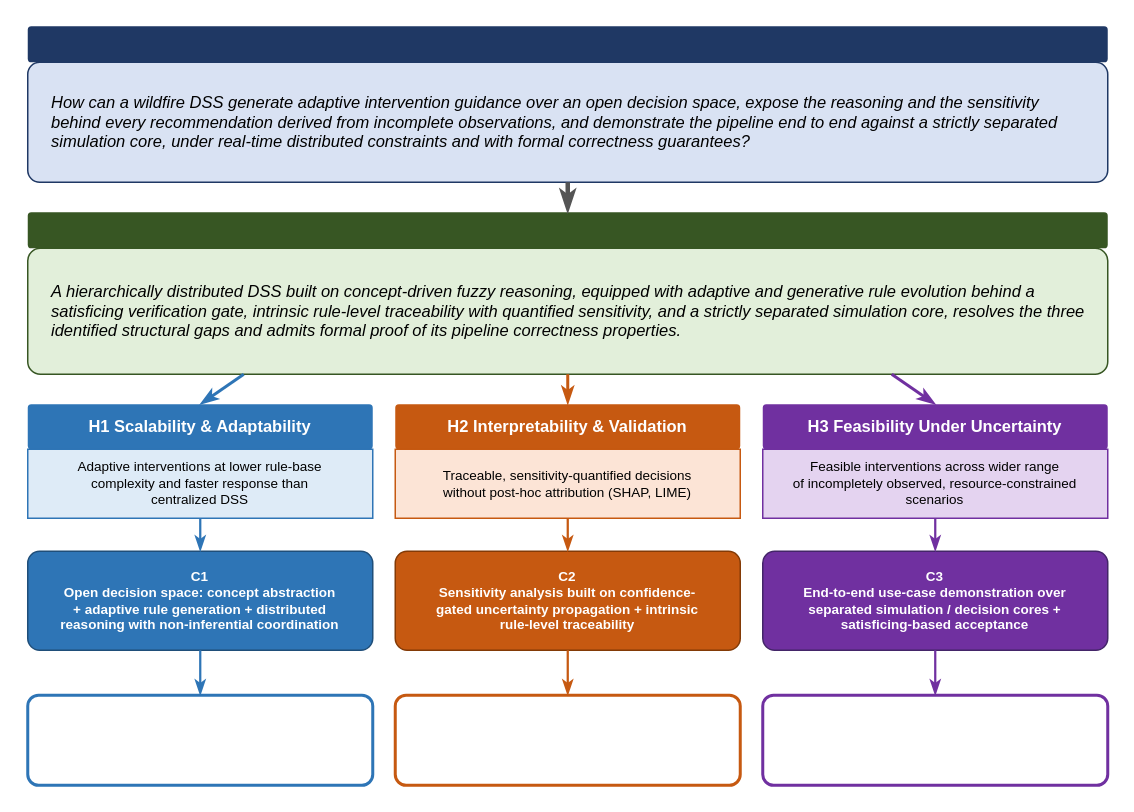
Some shapes in this 1134 by 812 pixel diagram are drawn without their labels. Each missing label, with the centre of its shape:
"G1 Closed decision spaces in centralized architectures" belongs at point (200, 739).
"G2 Unrepresented epistemic uncertainty & limited explainability" belongs at point (567, 739).
"G3 Simulation-decision coupling without an end-to-end operational workflow" belongs at point (934, 739).
"MAIN HYPOTHESIS" belongs at point (567, 230).
"RESEARCH QUESTION" belongs at point (567, 44).
